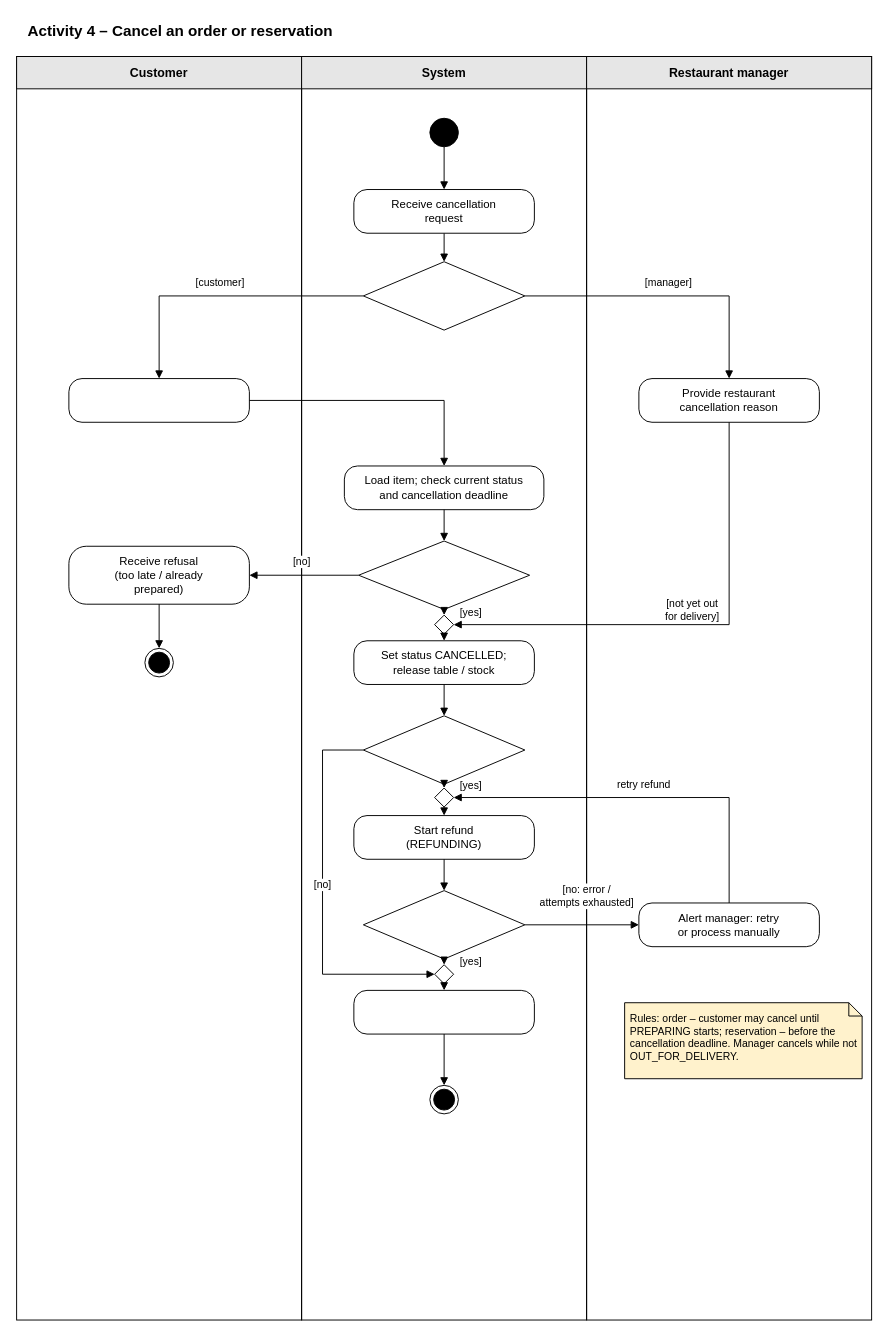
This 888x1337 diagram has some shape labels left out. The shapes that lost their labels are listed below. From the top down, each one's centre as x and y in pixels, then its label:
point (443, 295): Request initiated by?
point (158, 400): Provide cancellation details (order or reservation)
point (444, 574): customer cancel allowed?
point (443, 749): payment captured?
point (443, 924): refund succeeded?
point (443, 1011): Notify customer (and manager)
